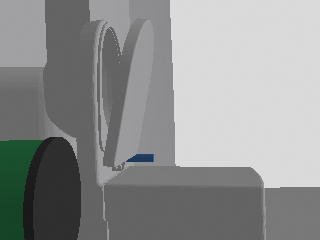lid_1: (104, 18, 153, 169)
